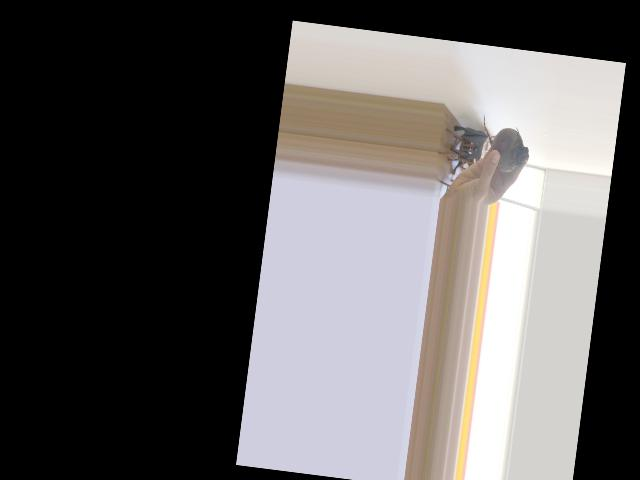beet: (476, 112, 533, 174)
